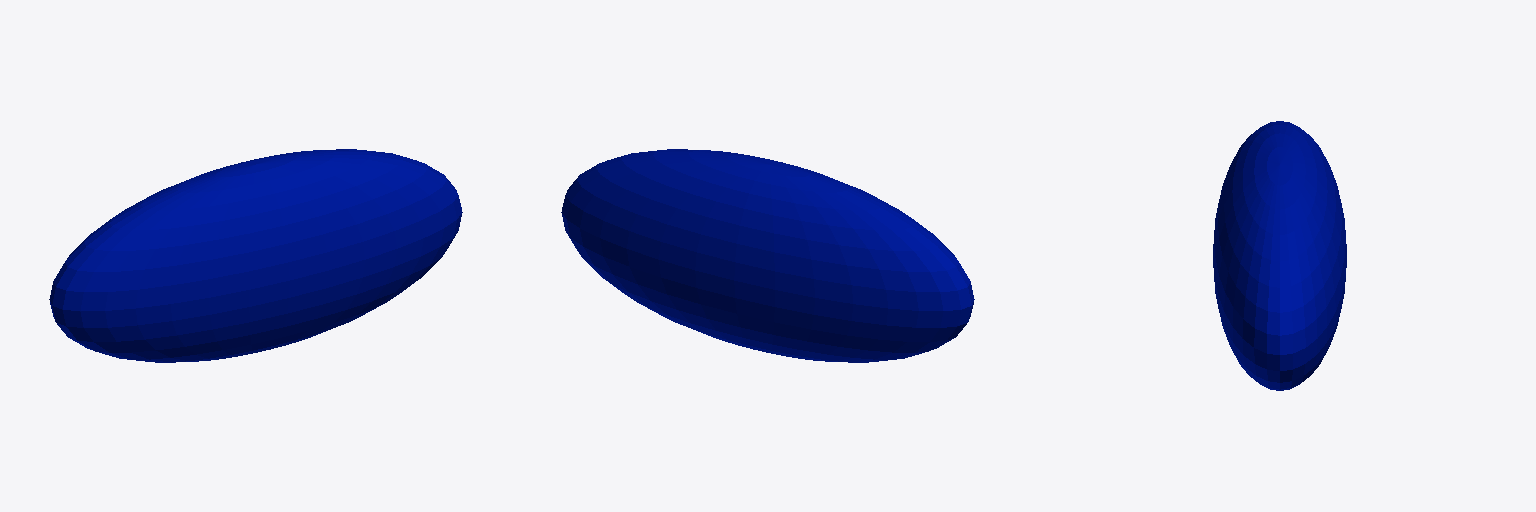
Rendered from moya_aircon_b2.obj.
3 renders of one model, left to right at view 1: azimuth 30°, elevation 25°; view 2: azimuth 150°, elevation 25°; view 3: azimuth 270°, elevation 25°, orthographic.
Parts seen in each view (by area): view 1: Sphere_Sphere.000_Sphere_Sphere.001; view 2: Sphere_Sphere.000_Sphere_Sphere.001; view 3: Sphere_Sphere.000_Sphere_Sphere.001.
Part boxes in pixels (x1,y1,x2,y2): Sphere_Sphere.000_Sphere_Sphere.001: (49,149,462,362); Sphere_Sphere.000_Sphere_Sphere.001: (561,149,974,362); Sphere_Sphere.000_Sphere_Sphere.001: (1213,121,1346,390).
Bounding box in the file's own units: 0.9189 × 0.3938 × 0.2625.